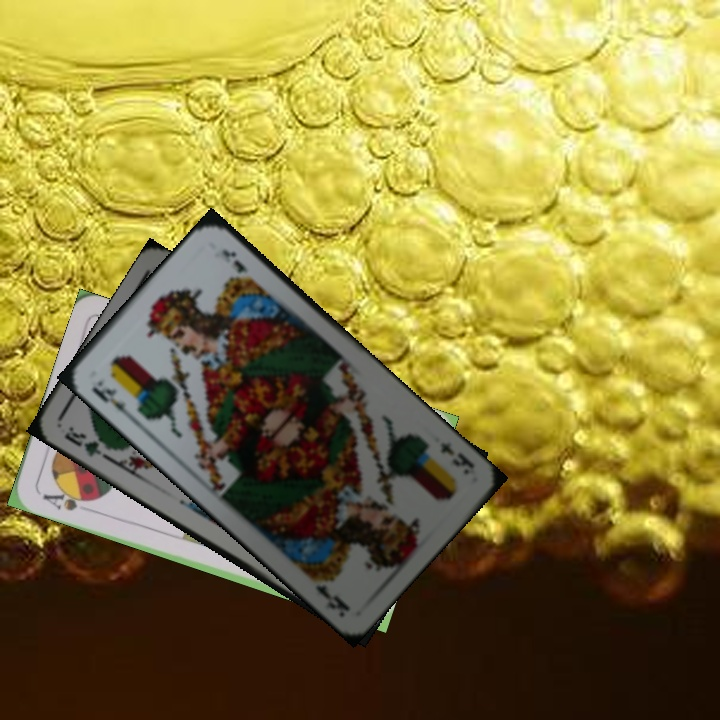EK: (88, 375, 135, 422), (436, 437, 478, 478)
GK: (60, 422, 115, 461)
SA: (38, 485, 96, 514)
